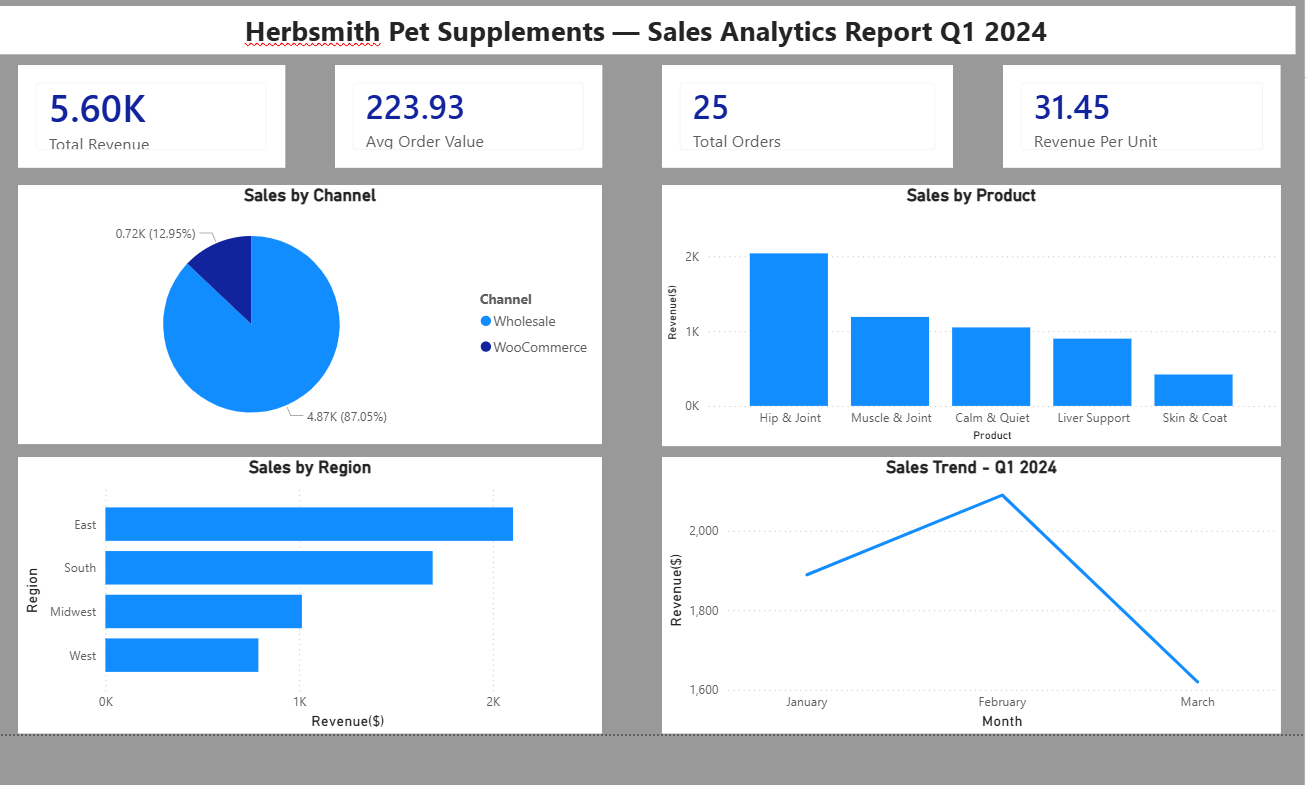

The dashboard page shown, as its layout file describes it:
{"tool":"powerbi","page":{"name":"Page 1","canvas":[1280,720],"ordinal":0},"visuals":[{"type":"columnChart","title":"Sales by Product","fields":{"Category":["herbsmith_sales.Product"],"Y":["Sum(herbsmith_sales.OrderTotal)"]},"box":[655.6,185.8,602.1,253.9],"z":0},{"type":"pieChart","title":"Sales by Channel","fields":{"Category":["herbsmith_sales.Channel"],"Y":["Sum(herbsmith_sales.OrderTotal)"]},"box":[29.2,185.8,568,251.9],"z":1},{"type":"barChart","title":"Sales by Region","fields":{"Category":["herbsmith_sales.Region"],"Y":["Sum(herbsmith_sales.OrderTotal)"]},"box":[29.2,450.3,568,269.4],"z":2},{"type":"lineChart","title":"Sales Trend - Q1 2024","fields":{"Category":["herbsmith_sales.OrderDate.Variation.Date Hierarchy.Month"],"Y":["Sum(herbsmith_sales.OrderTotal)"]},"box":[655.6,450.3,602.1,269.4],"z":4},{"type":"textbox","box":[7.8,11.7,1264.4,46.7],"z":5},{"type":"cardVisual","fields":{"Data":["herbsmith_sales.Total Revenue"]},"box":[29.2,69.1,259.7,100.2],"z":6},{"type":"cardVisual","fields":{"Data":["herbsmith_sales.Aug Order Value"]},"box":[337.5,69.1,259.7,100.2],"z":7},{"type":"cardVisual","fields":{"Data":["herbsmith_sales.Total Orders"]},"box":[655.6,69.1,283,100.2],"z":8},{"type":"cardVisual","fields":{"Data":["herbsmith_sales.Revenue Per Unit"]},"box":[987.2,69.1,270.4,100.2],"z":9}]}

Visuals, with their boxes in screenshot pixels (x1, y1, x2, y2):
"Sales by Product" columnChart: <region>660, 180, 1288, 445</region>
"Sales by Channel" pieChart: <region>7, 180, 599, 443</region>
"Sales by Region" barChart: <region>7, 456, 599, 737</region>
"Sales Trend - Q1 2024" lineChart: <region>660, 456, 1288, 737</region>
textbox: <region>0, 0, 1303, 47</region>
cardVisual - herbsmith_sales.Total Revenue: <region>7, 58, 278, 163</region>
cardVisual - herbsmith_sales.Aug Order Value: <region>328, 58, 599, 163</region>
cardVisual - herbsmith_sales.Total Orders: <region>660, 58, 955, 163</region>
cardVisual - herbsmith_sales.Revenue Per Unit: <region>1006, 58, 1288, 163</region>
